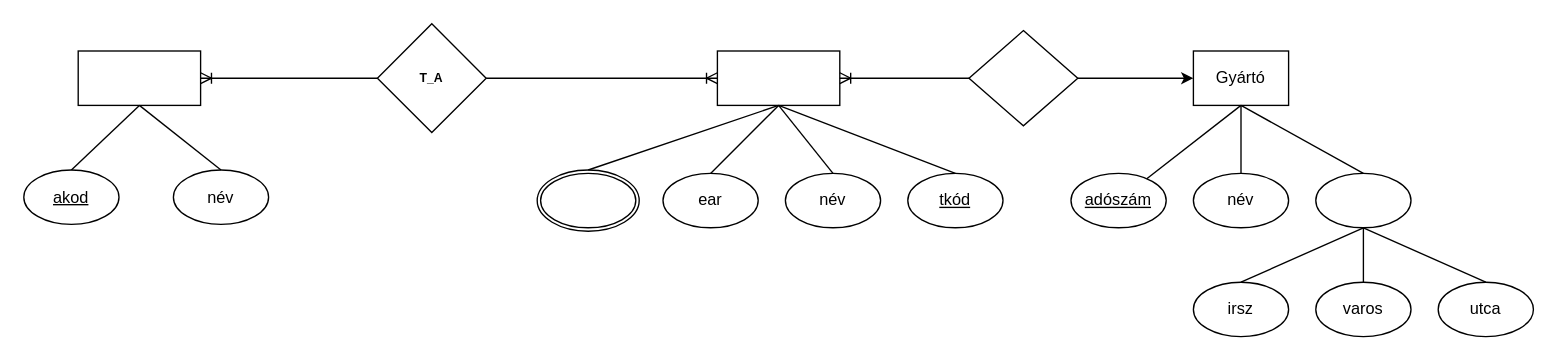
This 1557x360 diagram has some shape labels left out. Here are the shapes that lost their labels. From the top down, the centre of each, then its label:
At pixel 139 77: "Alakatrész".
At pixel 778 77: "Termék".
At pixel 1023 77: "T_GY".
At pixel 587 200: "darabszam".
At pixel 1362 200: "telephely".
